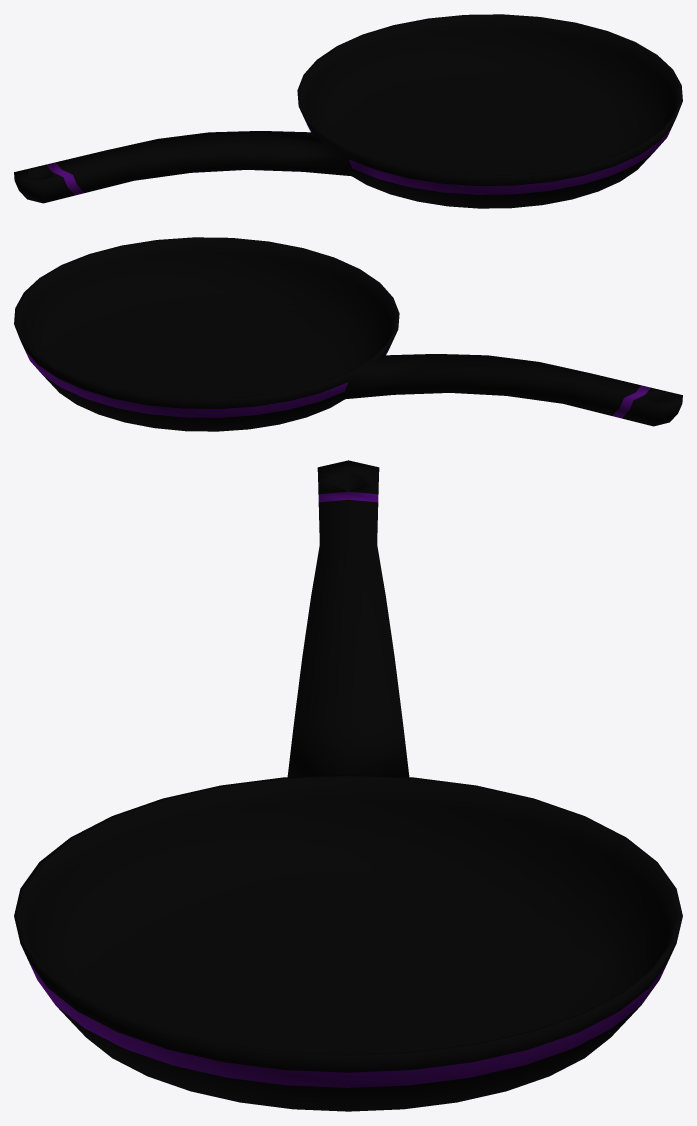
The model's file is Pan.fbx.
The picture shows the model from 3 angles, top to bottom: view 1: azimuth 30°, elevation 25°; view 2: azimuth 150°, elevation 25°; view 3: azimuth 270°, elevation 25°; orthographic projection. The views are drawn at different scales.
Visible parts, largest first — view 1: Circle; view 2: Circle; view 3: Circle.
Part boxes in pixels (box(x1,y1,x2,y2)): Circle: box(14, 14, 682, 208); Circle: box(14, 237, 682, 431); Circle: box(14, 460, 682, 1111).
Bounding box in the file's own units: 1.39 × 0.7232 × 0.1544.
